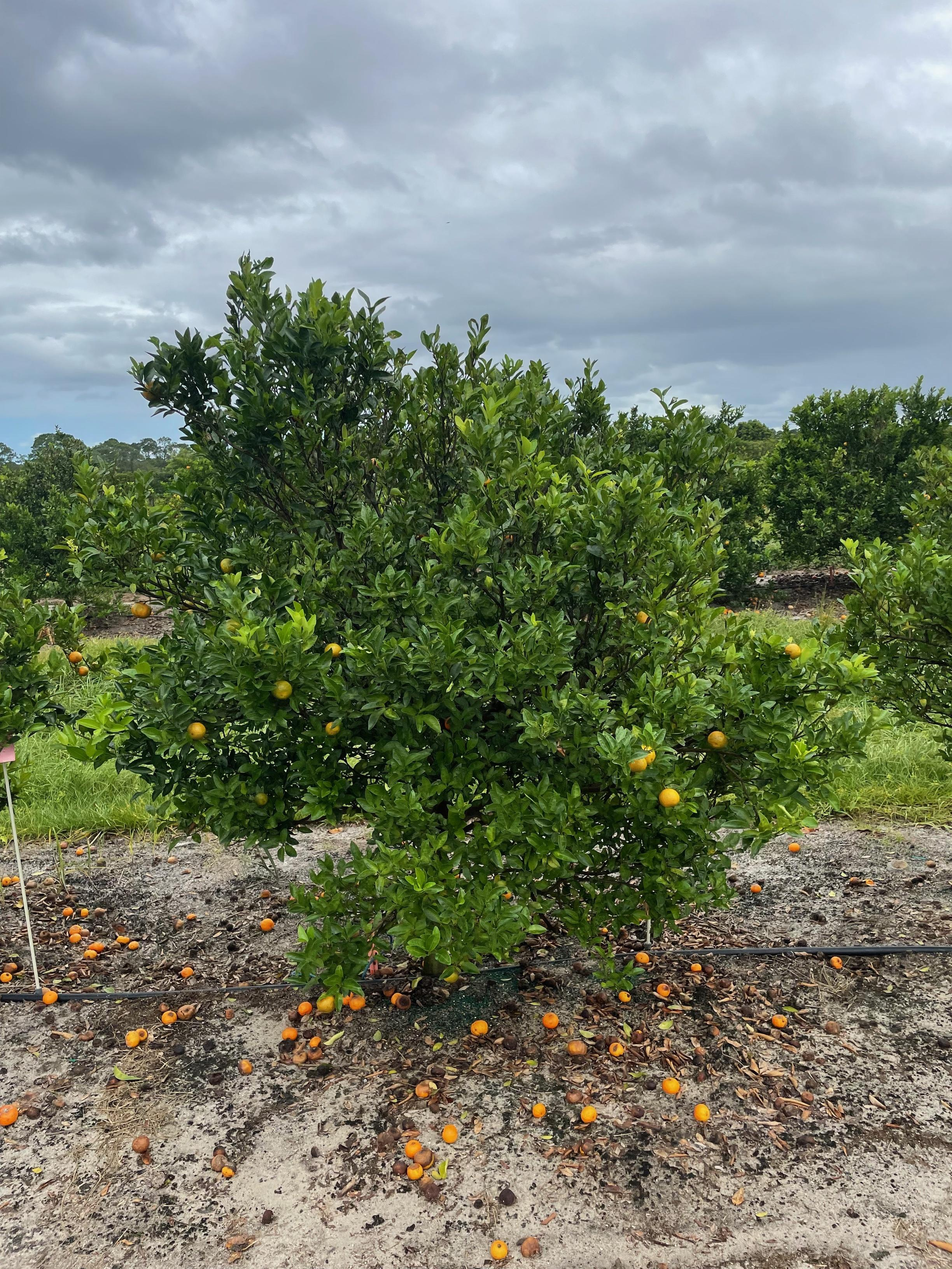fruit_on_ground: (138, 376, 166, 404), (269, 676, 295, 701), (184, 718, 210, 743), (705, 727, 729, 751), (633, 743, 657, 767), (657, 785, 682, 808), (625, 751, 649, 774), (634, 608, 657, 630), (322, 639, 345, 661), (440, 965, 461, 986), (217, 556, 239, 576), (323, 718, 343, 739), (783, 641, 803, 660), (149, 545, 168, 564), (252, 790, 271, 808), (66, 648, 85, 665), (130, 601, 147, 619), (135, 602, 153, 619)
fruit_on_tree: (411, 1147, 435, 1170), (520, 1235, 542, 1258), (660, 1075, 682, 1097), (413, 1079, 435, 1100), (489, 1238, 509, 1261), (565, 1037, 588, 1057), (0, 1102, 19, 1126), (315, 993, 336, 1014), (130, 1133, 151, 1154), (209, 1153, 229, 1175), (693, 1101, 712, 1123), (440, 1124, 460, 1144), (579, 1104, 599, 1124), (606, 1040, 627, 1059), (469, 1018, 490, 1036), (347, 991, 366, 1010), (404, 1140, 423, 1159), (404, 1163, 423, 1182), (540, 1010, 560, 1028), (394, 993, 414, 1010), (124, 1029, 142, 1047), (564, 1087, 583, 1104), (823, 1019, 842, 1036), (177, 1003, 196, 1019), (237, 1058, 254, 1075), (633, 949, 651, 965), (40, 988, 58, 1004), (770, 1013, 788, 1029), (628, 1103, 645, 1119), (630, 1028, 647, 1044), (531, 1101, 547, 1118), (220, 1162, 236, 1179), (828, 954, 845, 970), (297, 1000, 313, 1017), (281, 1025, 299, 1040), (133, 1026, 149, 1042), (390, 1160, 406, 1176), (656, 981, 672, 997), (339, 990, 354, 1007), (160, 1009, 177, 1024), (747, 880, 763, 895), (259, 917, 275, 932), (389, 990, 404, 1006), (706, 1024, 721, 1039), (381, 984, 396, 999), (2, 960, 18, 974), (616, 989, 632, 1003), (378, 964, 395, 977), (597, 923, 612, 937), (799, 1089, 814, 1103), (179, 964, 194, 978), (787, 839, 802, 853), (82, 947, 98, 960), (89, 939, 105, 952), (172, 916, 186, 930), (68, 932, 83, 945), (702, 962, 716, 975), (68, 924, 83, 936), (223, 1006, 236, 1019), (689, 961, 702, 974), (0, 970, 13, 983), (24, 878, 38, 890), (42, 874, 56, 886), (0, 875, 14, 887), (258, 887, 272, 899), (308, 1035, 322, 1047), (61, 905, 74, 917), (114, 933, 128, 944), (79, 905, 91, 917), (863, 875, 876, 886), (128, 939, 141, 950), (78, 927, 91, 938), (58, 840, 70, 851), (94, 905, 106, 916), (924, 857, 936, 868), (186, 910, 198, 921), (848, 874, 860, 884), (10, 874, 21, 884), (167, 854, 178, 864), (75, 846, 86, 855)
